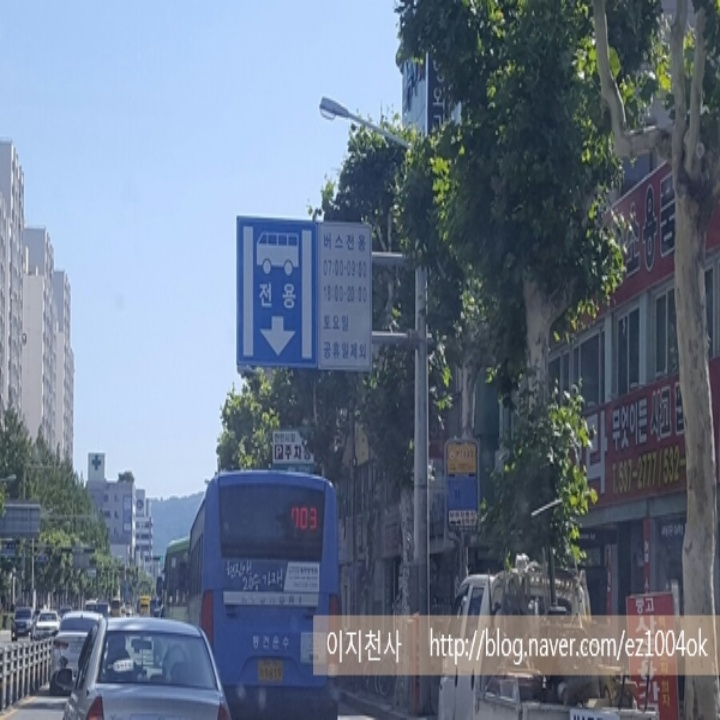bus: (253, 223, 300, 278)
